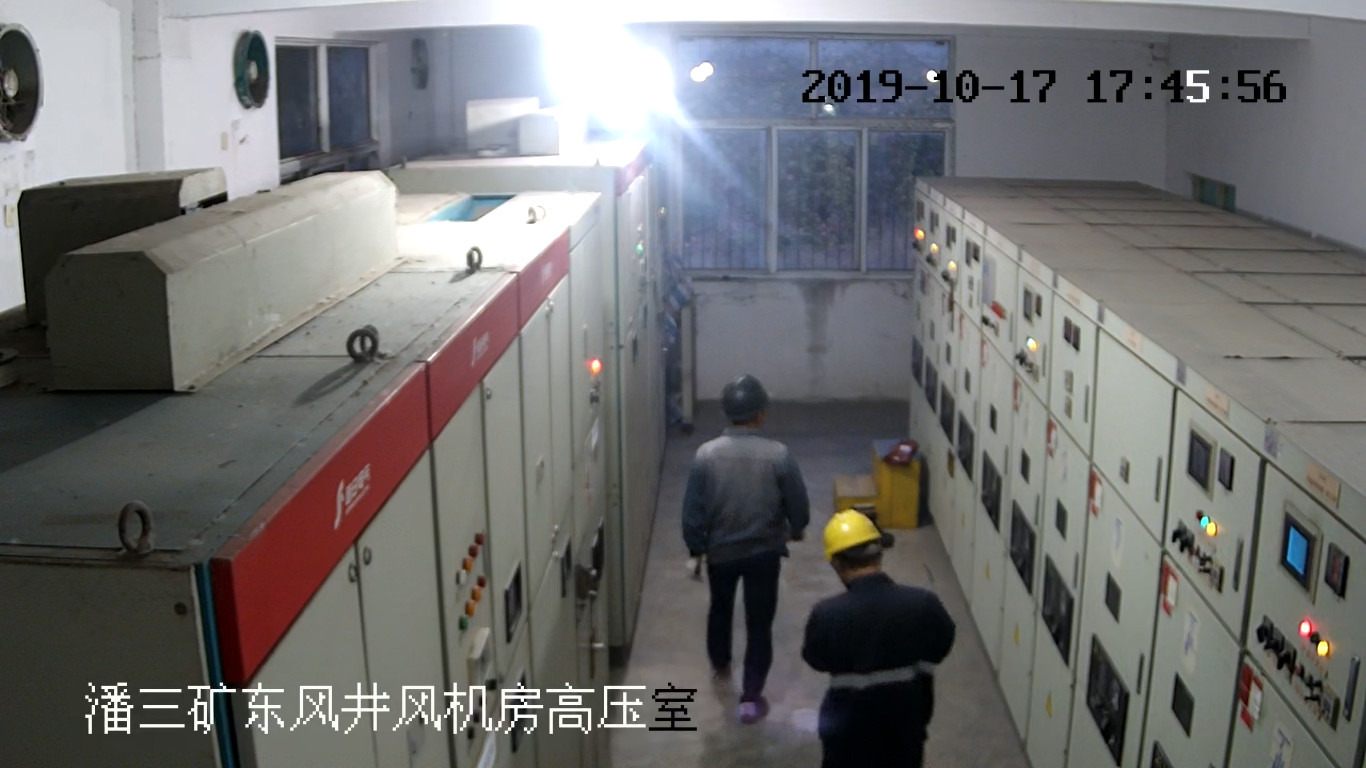helmet: (823, 509, 882, 564), (722, 374, 769, 421)
